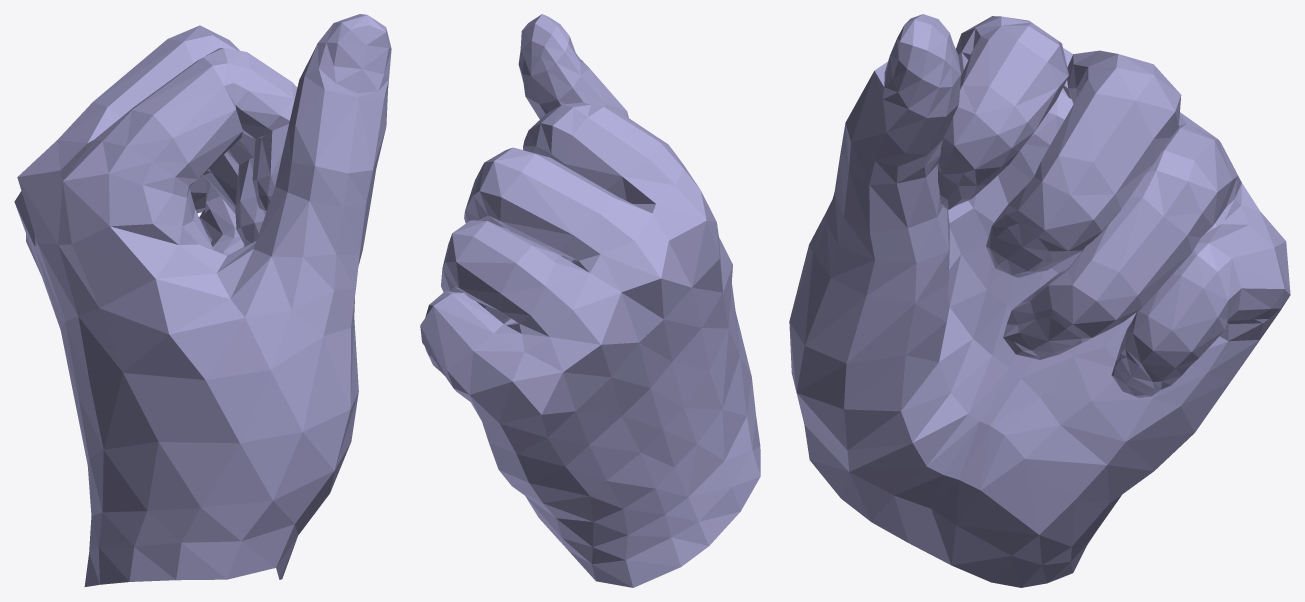
Rendered from frame_0028_source_000028_hand.glb.
3 renders of one model, left to right at view 1: azimuth 30°, elevation 25°; view 2: azimuth 150°, elevation 25°; view 3: azimuth 270°, elevation 25°, orthographic. The views are drawn at different scales.
Parts seen in each view (by area): view 1: world; view 2: world; view 3: world.
Part boxes in pixels (box(x1,y1,x2,y2)): world: box(14, 14, 391, 586); world: box(420, 14, 760, 587); world: box(789, 14, 1290, 587).
Bounding box in the file's own units: 0.062 × 0.1249 × 0.0907.
